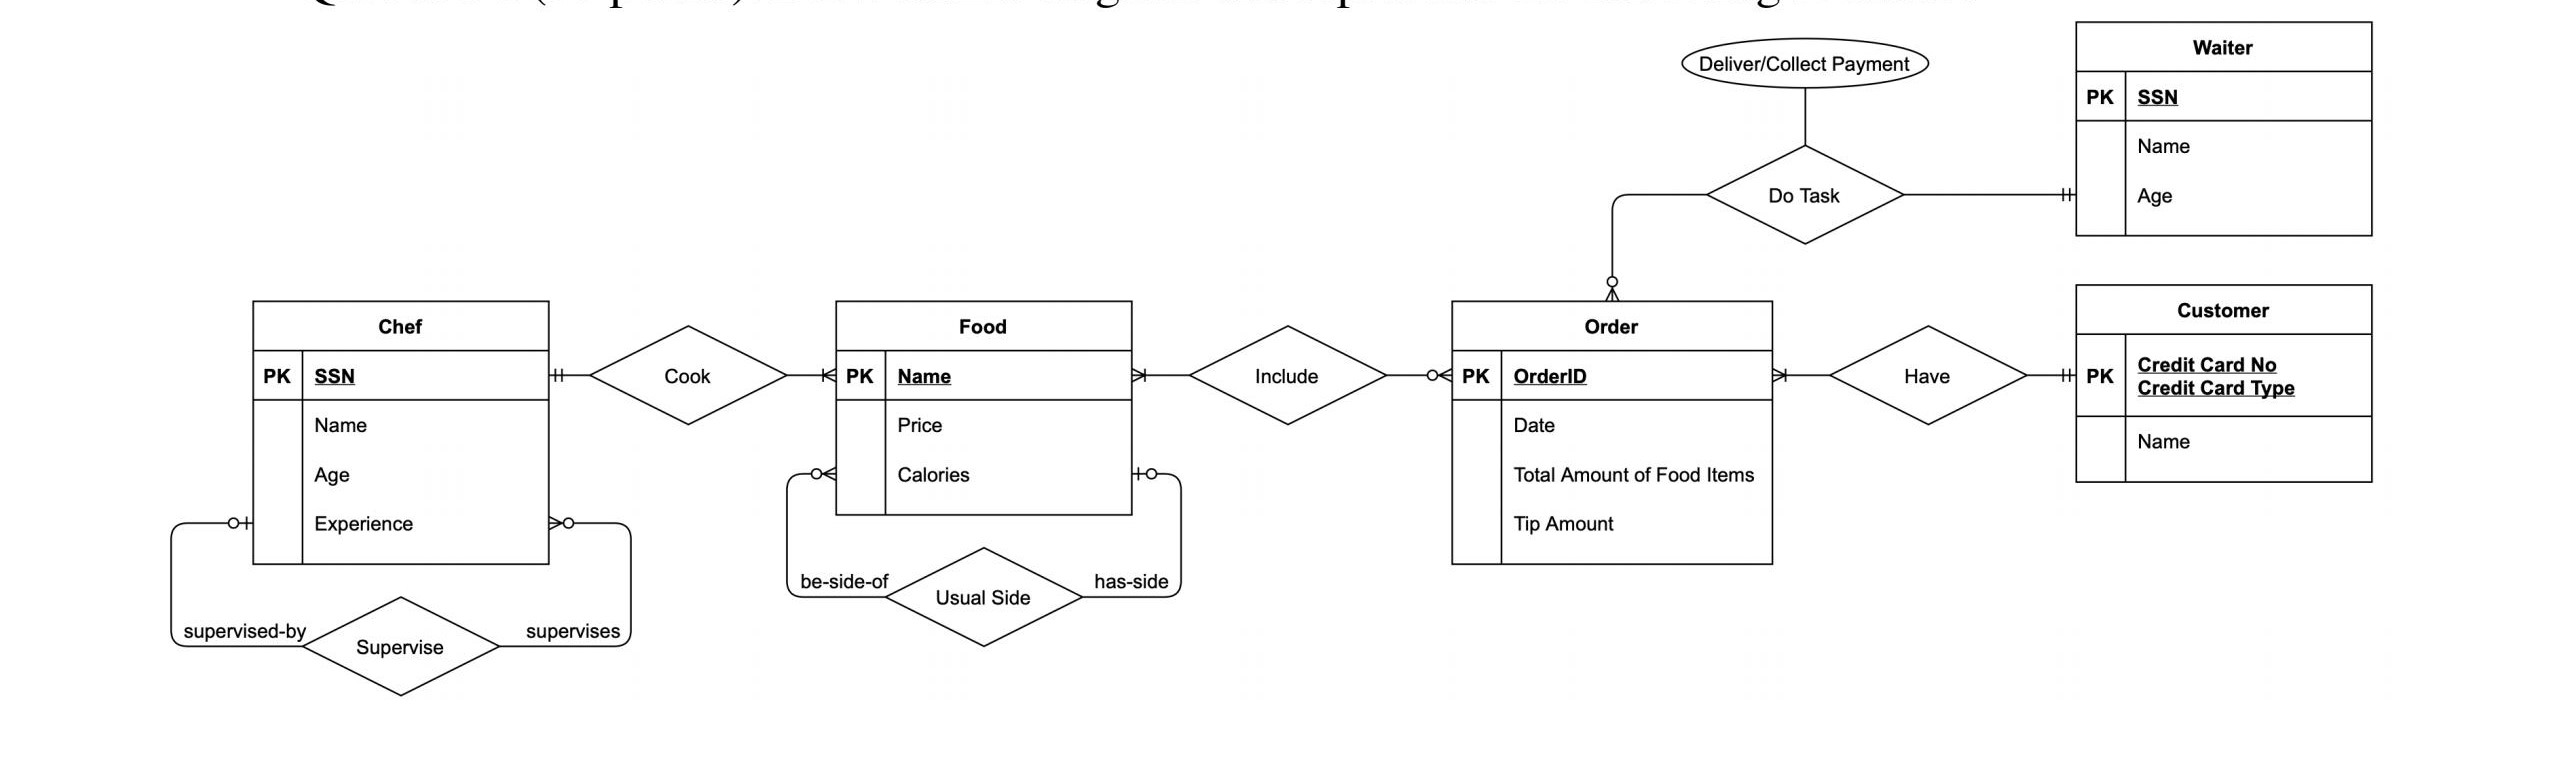Attribute: (1680, 37, 1932, 90)
Entity: (1449, 296, 1778, 570), (249, 296, 553, 570), (833, 296, 1137, 519), (2074, 20, 2376, 239), (2074, 282, 2374, 485)
Relationship: (299, 596, 501, 698), (590, 324, 785, 426), (1186, 326, 1386, 425), (1830, 326, 2028, 423), (885, 549, 1081, 646), (1708, 145, 1903, 243)
